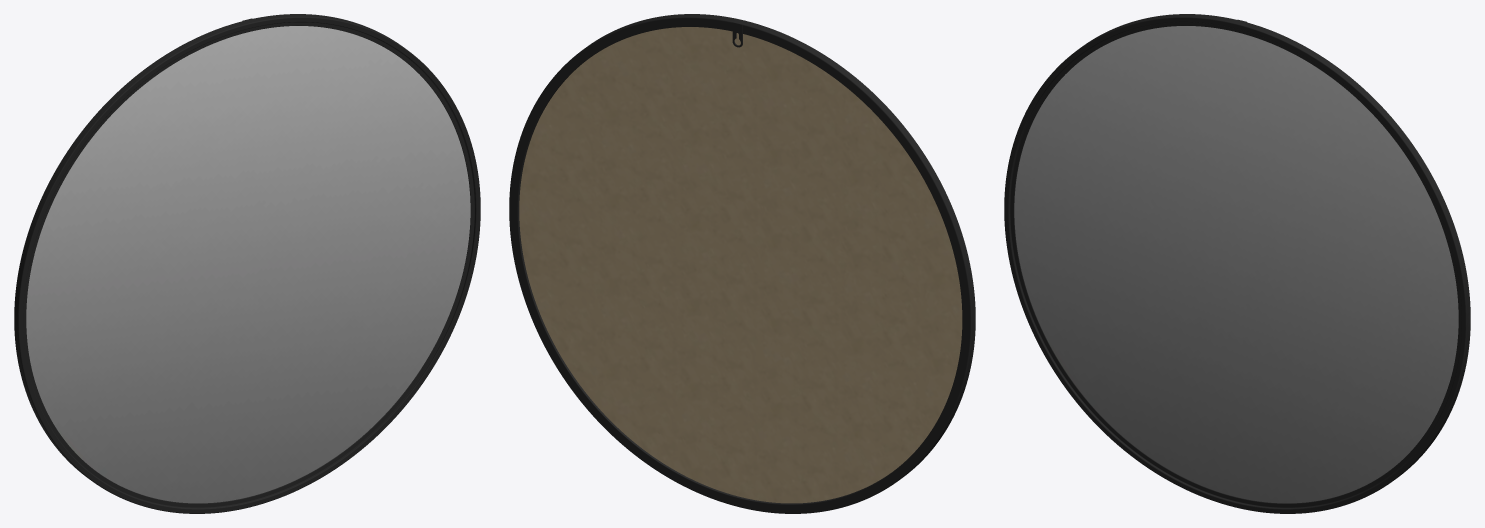
File: round_mirror.glb
The picture shows the model from 3 angles, left to right: view 1: azimuth 30°, elevation 25°; view 2: azimuth 150°, elevation 25°; view 3: azimuth 330°, elevation 25°; orthographic projection.
Parts seen in each view (by area): view 1: ASSET; view 2: ASSET; view 3: ASSET.
Boxes of the visible parts, x1,y1,x2,y2 form: ASSET: (14,14,480,513); ASSET: (509,14,975,513); ASSET: (1004,14,1470,513).
Size of the model in its own units: 1.07 by 1.07 by 0.02.
Materials: 1 (1 with a texture image).
